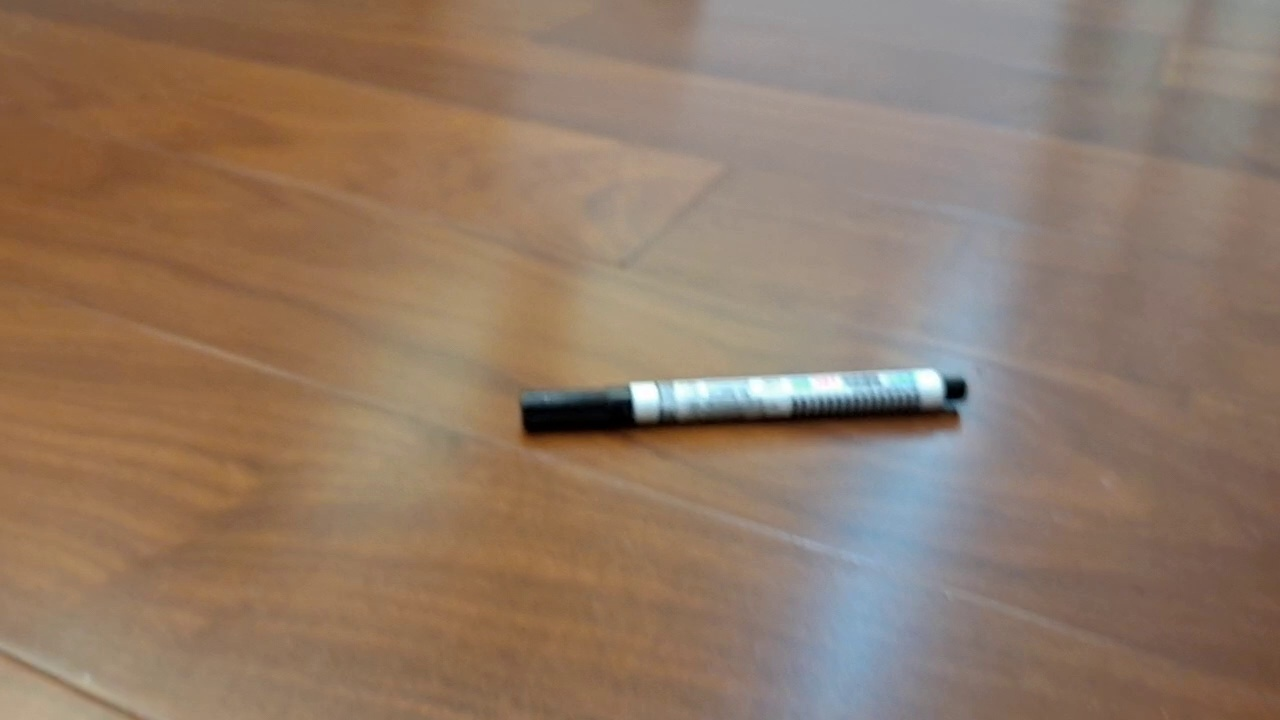pen: (519, 366, 966, 434)
